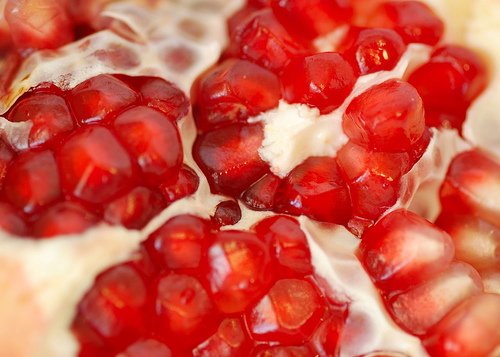pomogranate: (2, 1, 499, 356)
